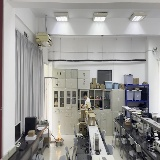fire: (56, 123, 61, 141)
